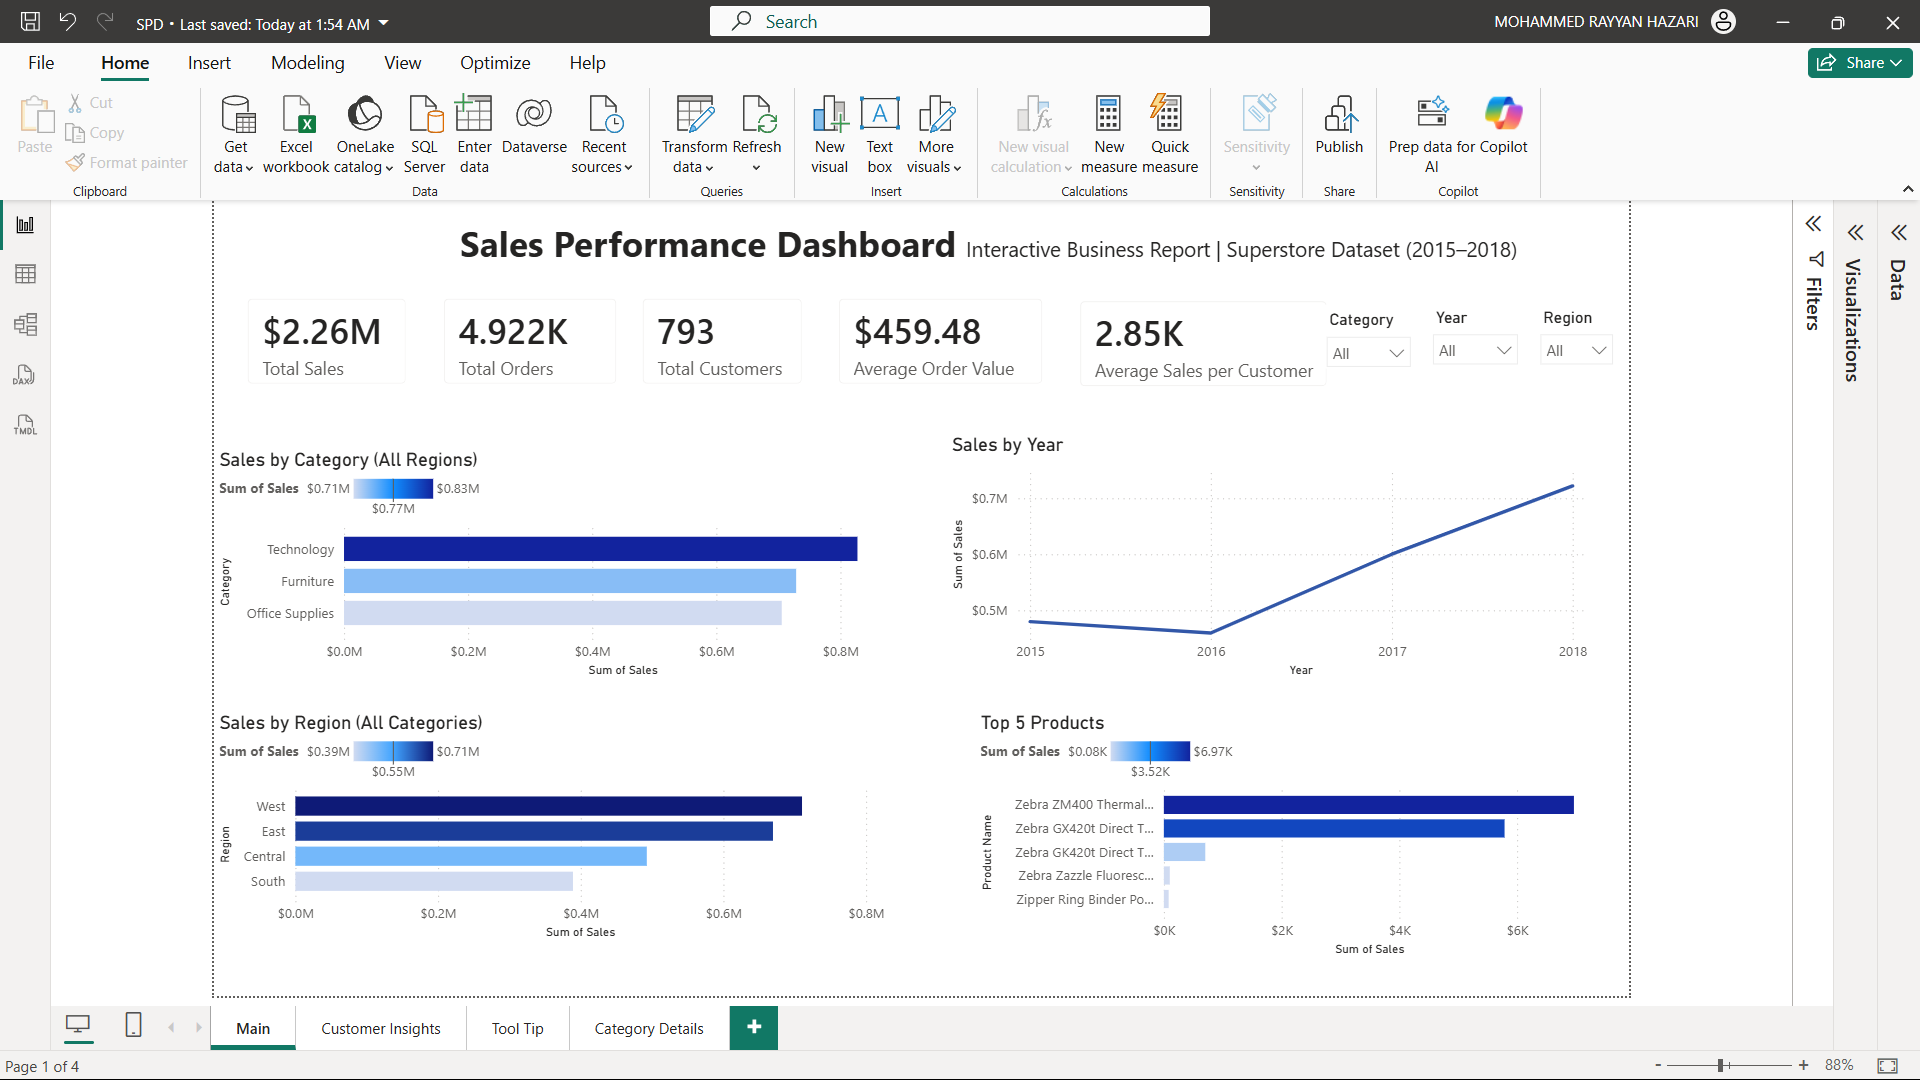

Layout of this report page (visuals, bound fields, positions):
{"tool":"powerbi","page":{"name":"Main","canvas":[1280,720],"ordinal":0},"visuals":[{"type":"cardVisual","fields":{"Data":["Sum(train.Sales)"]},"box":[13.7,72.7,177,111.1],"z":0},{"type":"textbox","box":[170.2,12.3,1062.1,61.7],"z":1000},{"type":"cardVisual","fields":{"Data":["Count(train.Order ID)"]},"box":[190.7,72.7,190.7,111.1],"z":2000},{"type":"cardVisual","fields":{"Data":["Count(train.Customer ID)"]},"box":[370.5,72.7,178.4,111.1],"z":3000},{"type":"cardVisual","fields":{"Data":["train.Average Order Value"]},"box":[548.9,72.7,218.2,111.1],"z":4000},{"type":"cardVisual","fields":{"Data":["train.Average Sales per Customer"]},"box":[767.1,74.1,258,111.1],"z":5000},{"type":"clusteredBarChart","fields":{"Y":["Sum(train.Sales)"],"Category":["train.Category"]},"box":[0,225,644.9,211.3],"z":6000},{"type":"clusteredBarChart","fields":{"Y":["Sum(train.Sales)"],"Category":["train.Region"]},"box":[0,462.4,612,211.3],"z":7000},{"type":"clusteredBarChart","title":"Top 5 Products","fields":{"Category":["train.Product Name"],"Y":["Sum(train.Sales)"]},"box":[688.6,462.4,558.5,226.1],"z":8000},{"type":"lineChart","title":"Sales by Year","fields":{"Category":["train.Order Date.Variation.Date Hierarchy.Year"],"Y":["Sum(train.Sales)"]},"box":[662.6,211.4,584.6,225],"z":9000},{"type":"slicer","fields":{"Values":["train.Order Date.Variation.Date Hierarchy.Year"]},"box":[1092.2,92.7,97.2,59.9],"z":10000},{"type":"slicer","fields":{"Values":["train.Region"]},"box":[1189.5,92.7,85.9,71.2],"z":11000},{"type":"slicer","fields":{"Values":["train.Category"]},"box":[996.1,95,96.1,57.7],"z":12000}]}

Visuals, with their boxes on the page's 1280x720 design canvas (x1, y1, x2, y2). These are canvas units, not pixel positions in the 1920x1080 screenshot, which may show the page scaled, cropped or inside an application window:
cardVisual - Sum(train.Sales): bbox=(14, 73, 191, 184)
textbox: bbox=(170, 12, 1232, 74)
cardVisual - Count(train.Order ID): bbox=(191, 73, 381, 184)
cardVisual - Count(train.Customer ID): bbox=(370, 73, 549, 184)
cardVisual - train.Average Order Value: bbox=(549, 73, 767, 184)
cardVisual - train.Average Sales per Customer: bbox=(767, 74, 1025, 185)
clusteredBarChart - Sum(train.Sales) x train.Category: bbox=(0, 225, 645, 436)
clusteredBarChart - Sum(train.Sales) x train.Region: bbox=(0, 462, 612, 674)
"Top 5 Products" clusteredBarChart: bbox=(689, 462, 1247, 688)
"Sales by Year" lineChart: bbox=(663, 211, 1247, 436)
slicer - train.Order Date.Variation.Date Hierarchy.Year: bbox=(1092, 93, 1189, 153)
slicer - train.Region: bbox=(1190, 93, 1275, 164)
slicer - train.Category: bbox=(996, 95, 1092, 153)
